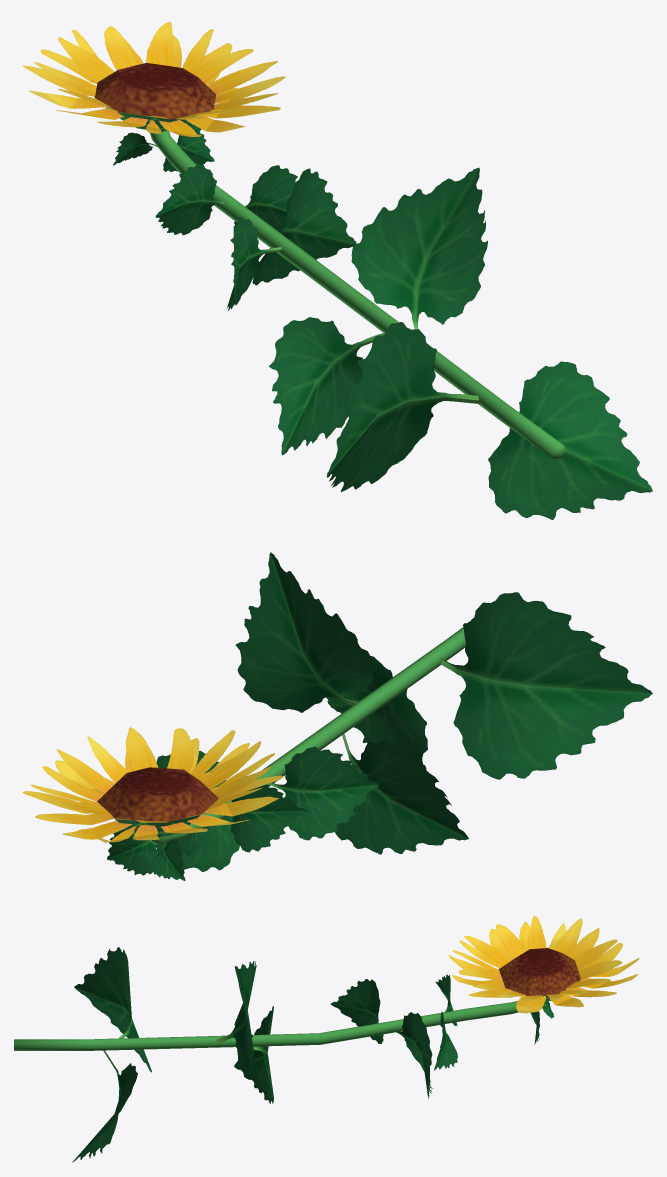
The model's file is SM_Sunflower_Small.fbx.
3 renders of one model, top to bottom at view 1: azimuth 30°, elevation 25°; view 2: azimuth 150°, elevation 25°; view 3: azimuth 270°, elevation 25°, orthographic. The views are drawn at different scales.
Parts seen in each view (by area): view 1: Sunflower_Small; view 2: Sunflower_Small; view 3: Sunflower_Small.
Part boxes in pixels (box(x1,y1,x2,y2)): Sunflower_Small: box(23, 22, 652, 519); Sunflower_Small: box(23, 552, 652, 880); Sunflower_Small: box(14, 916, 639, 1162).
Bounding box in the file's own units: 118 × 97.22 × 288.
